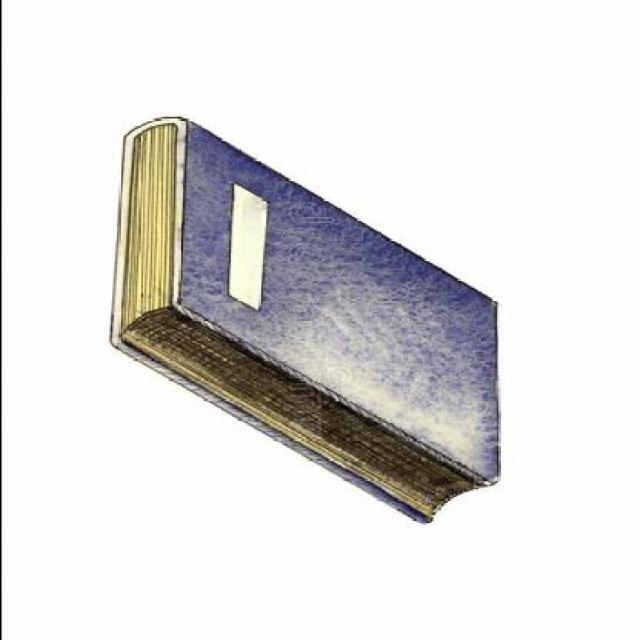book: (86, 96, 544, 546)
